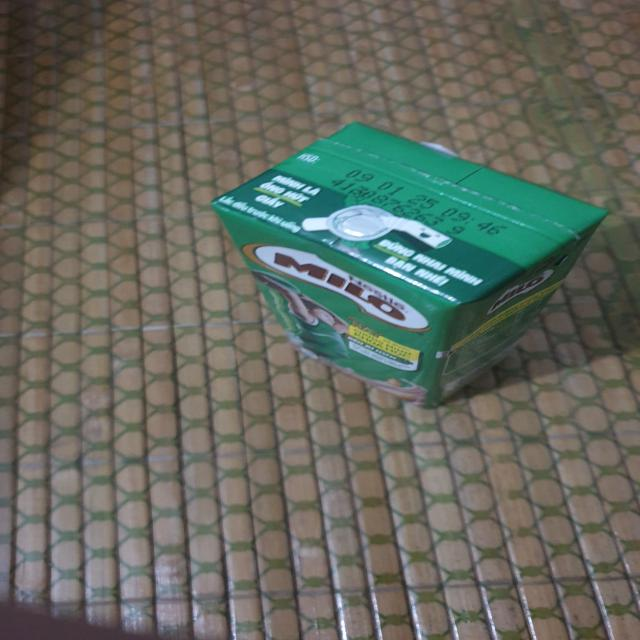Milo: (219, 130, 600, 411)
